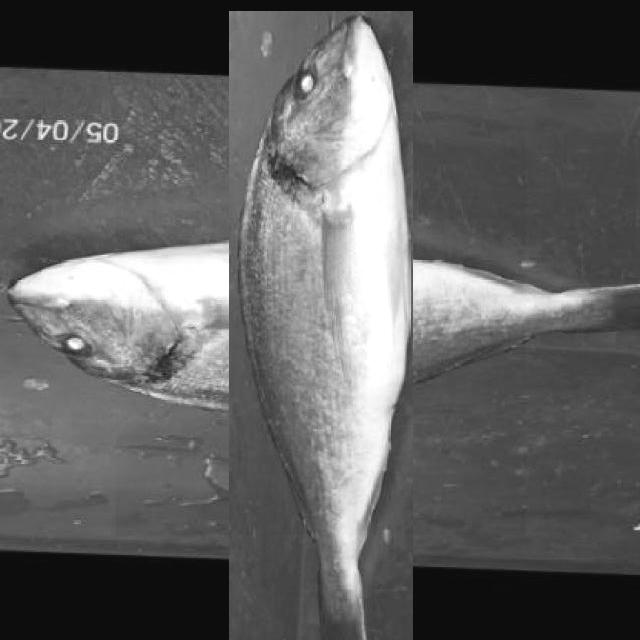Healthy Fish: (116, 124, 526, 534)
